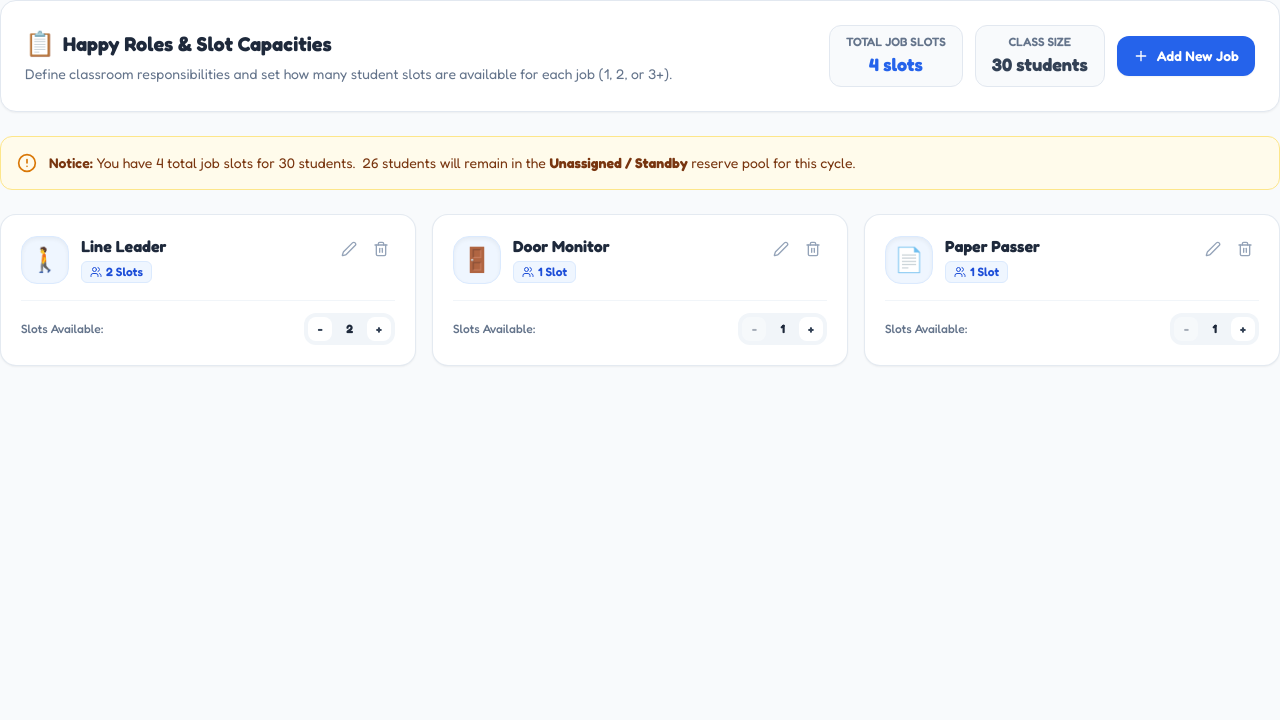
Test case: RoleManager › cancels edit form
Click the button named "edit job" in the row of "Line Leader".
click(349, 249)  # box x1=335 y1=235 x2=363 y2=263
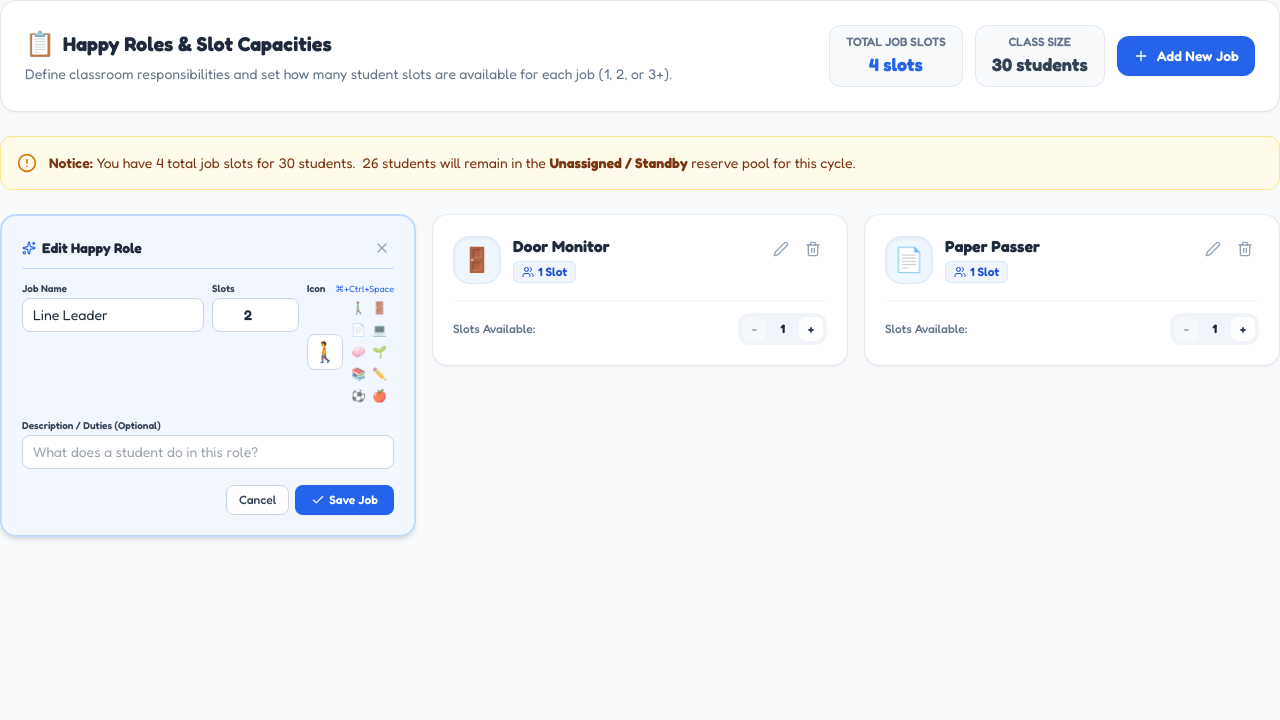
Check: the heading "Edit Happy Role" is shown, box x1=22 y1=238 x2=142 y2=258
Click the button "Cancel".
click(258, 500)  # box x1=226 y1=485 x2=289 y2=515
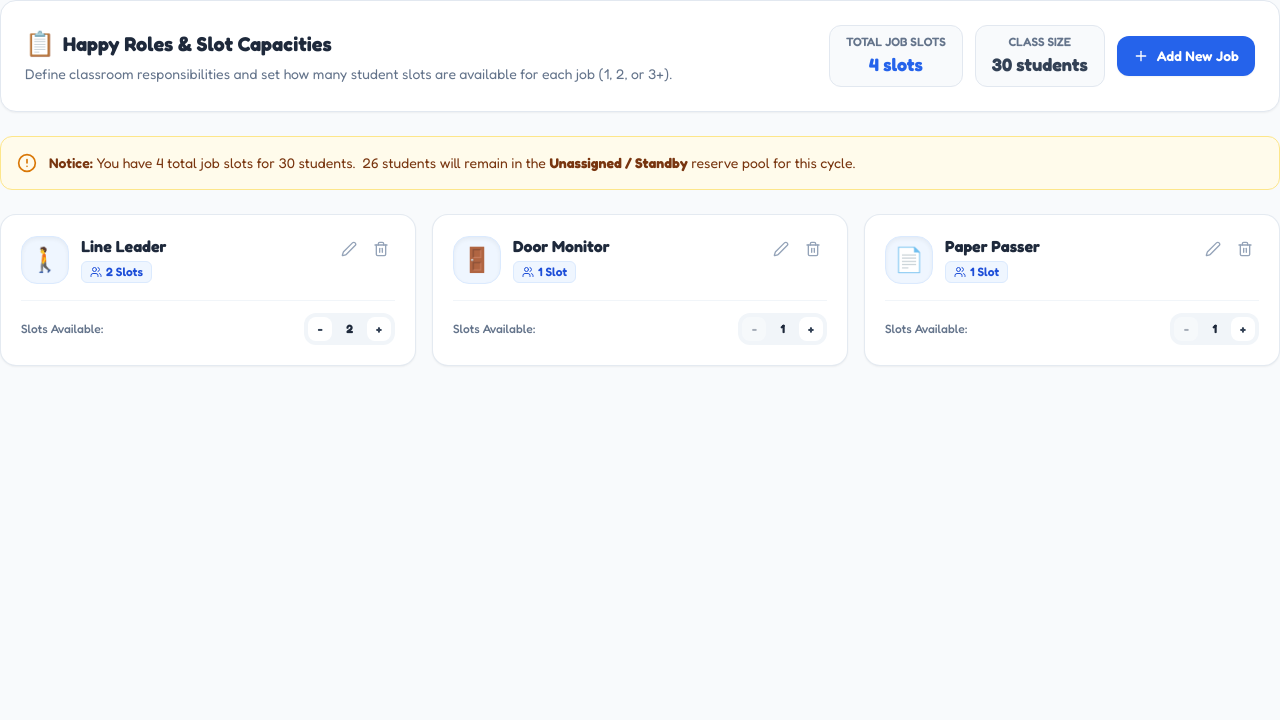
Check: the heading "Edit Happy Role" is gone
